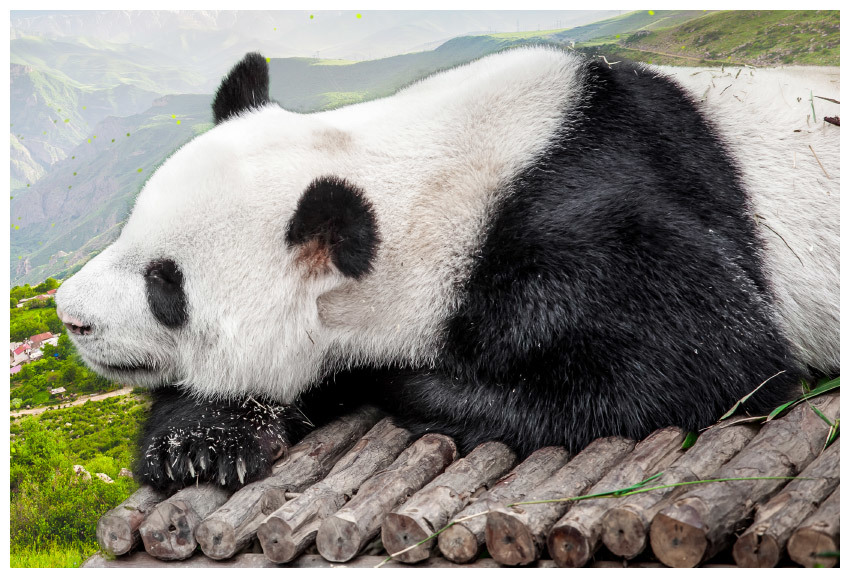panda: (75, 25, 844, 501)
